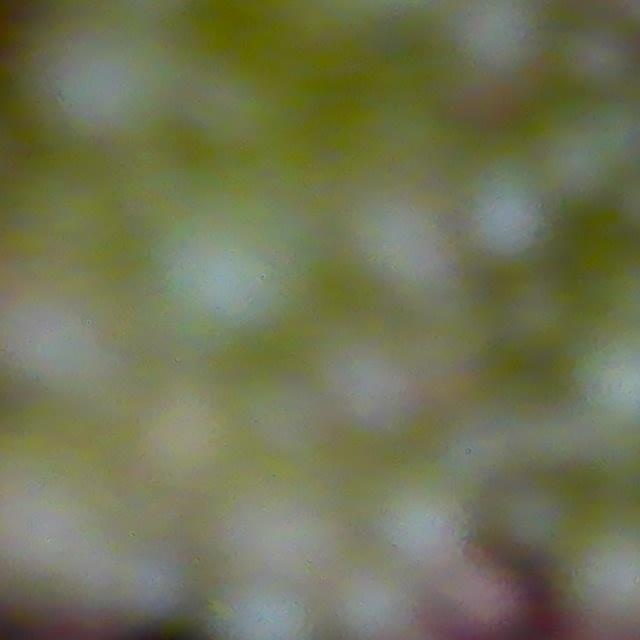SeaGrape: (150, 171, 334, 359), (25, 14, 188, 168), (337, 181, 454, 300), (466, 170, 550, 263), (454, 0, 538, 78), (492, 480, 573, 556), (580, 327, 640, 428), (217, 582, 309, 640)
